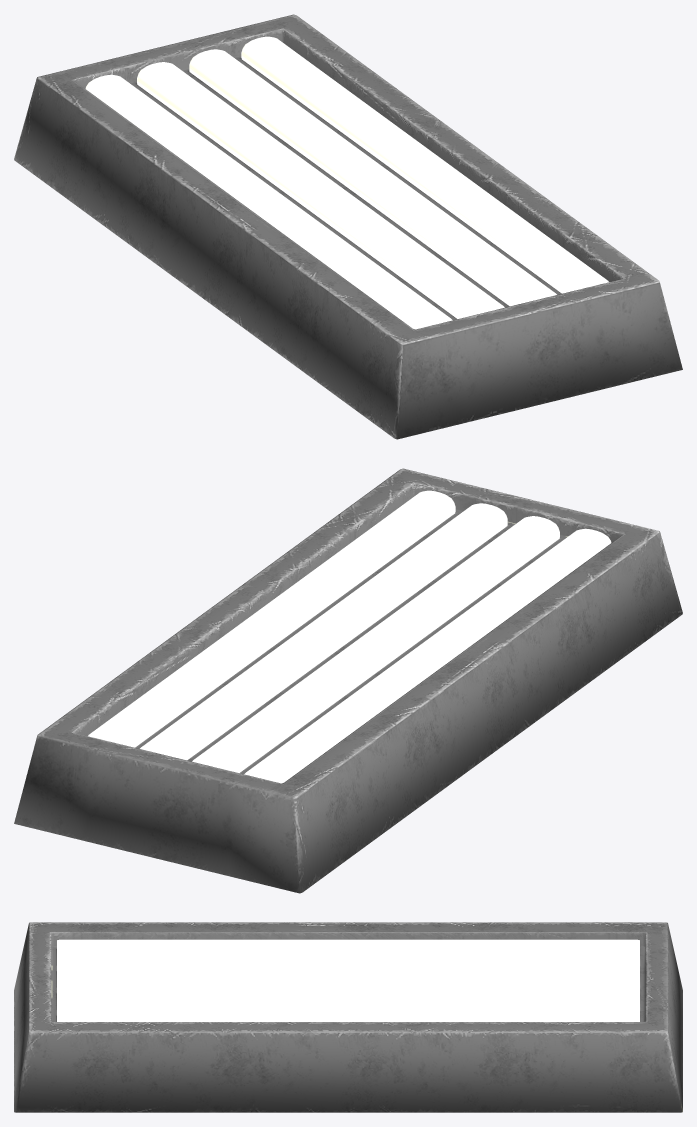
File: lamp_01.gltf
3 renders of one model, top to bottom at view 1: azimuth 30°, elevation 25°; view 2: azimuth 150°, elevation 25°; view 3: azimuth 270°, elevation 25°, orthographic. The views are drawn at different scales.
Parts seen in each view (by area): view 1: lamp_01; view 2: lamp_01; view 3: lamp_01.
Boxes of the visible parts, x1,y1,x2,y2 form: lamp_01: (14, 14, 682, 439); lamp_01: (14, 468, 682, 893); lamp_01: (14, 922, 682, 1112).
Size of the model in its own units: 0.5952 by 0.1696 by 1.37.
Materials: 1 (1 with a texture image).
